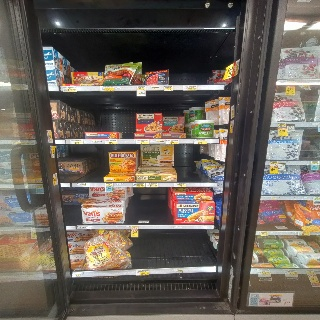All PRICE TAGS: (284, 269, 298, 275), (257, 269, 270, 275), (183, 85, 196, 91), (137, 269, 149, 275), (63, 86, 77, 91), (100, 86, 114, 91), (52, 174, 58, 185), (194, 139, 207, 144), (165, 139, 178, 144), (234, 60, 238, 75), (174, 267, 183, 273), (136, 140, 149, 144), (105, 140, 118, 144), (48, 130, 52, 143), (174, 183, 186, 187), (146, 183, 158, 187), (132, 183, 144, 187), (71, 140, 83, 144), (306, 269, 315, 274), (299, 231, 310, 235), (92, 139, 102, 143), (278, 122, 286, 127), (164, 86, 172, 91), (278, 163, 285, 168), (270, 161, 277, 166), (131, 225, 139, 229), (311, 161, 319, 165), (137, 86, 145, 90), (261, 232, 267, 236), (272, 196, 280, 199), (287, 80, 295, 83), (106, 183, 113, 186), (314, 196, 319, 200)
